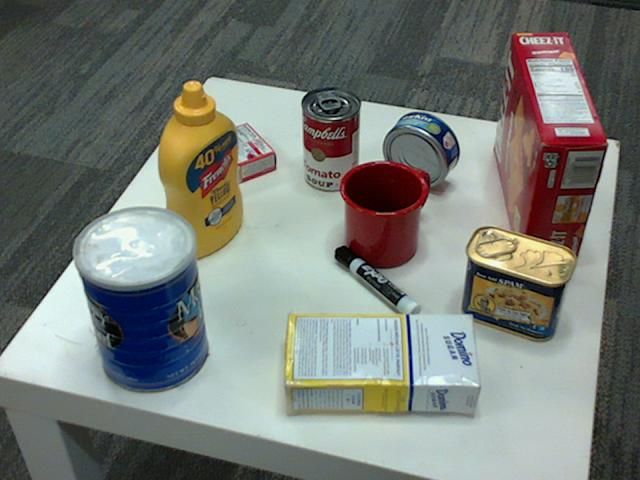cracker_box: (493, 31, 608, 265)
gelatin_box: (183, 119, 276, 189)
large_marker: (334, 247, 421, 324)
master_chef_can: (69, 207, 206, 394)
mug: (336, 158, 426, 265)
mustard_bottle: (156, 81, 243, 259)
potted_meat_can: (459, 225, 576, 341)
sugar_box: (277, 311, 478, 412)
tomato_soup_can: (300, 87, 360, 191)
tuna_fish_can: (381, 111, 458, 187)
